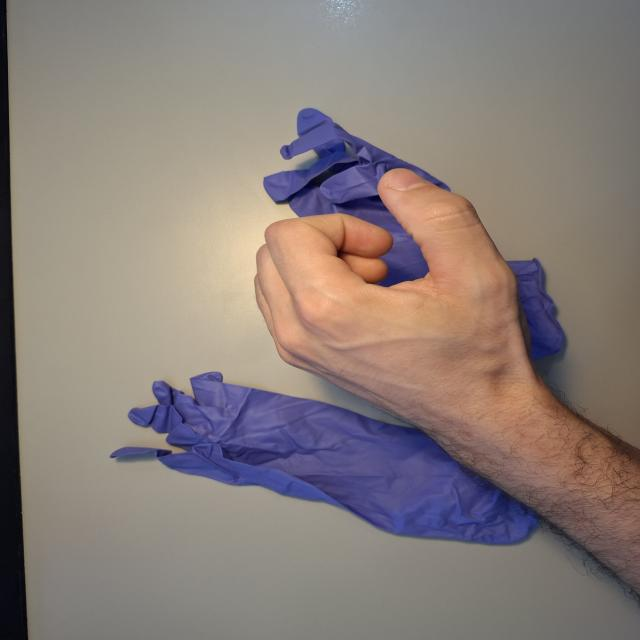glove_off: (248, 164, 558, 438)
